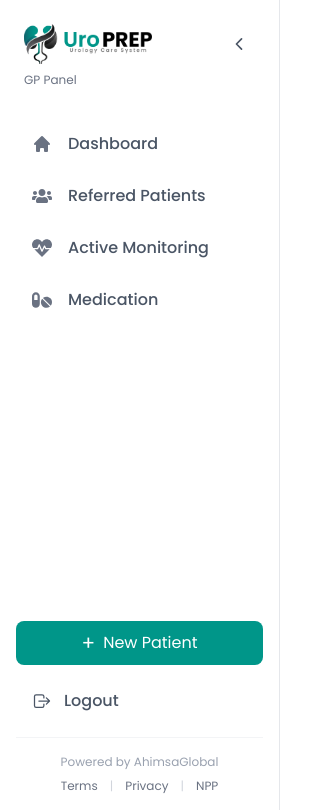
GPSidebar › hides Terms, Privacy, and NPP links when collapsed
Click the button named "Collapse sidebar". click: (239, 44)
box: [223, 28, 255, 60]
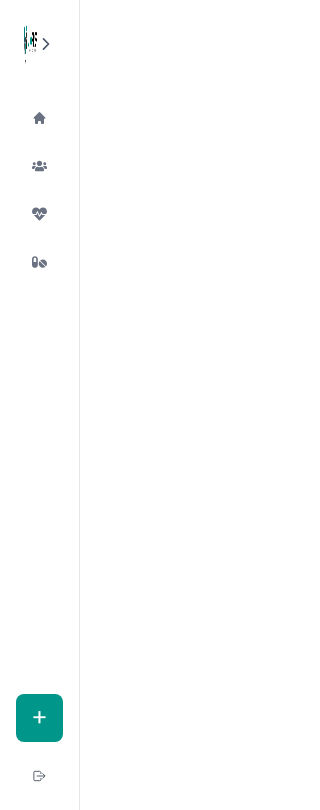
Check: the button "Terms" is gone
Check: the button "Privacy" is gone
Check: the button "NPP" is gone
